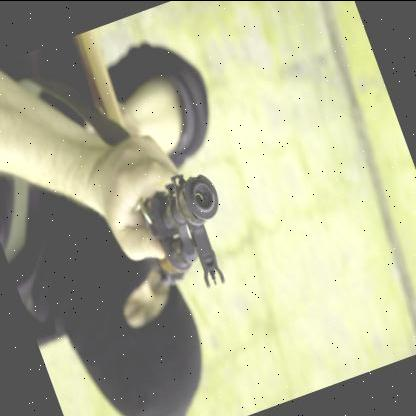rifle: (95, 123, 255, 322)
